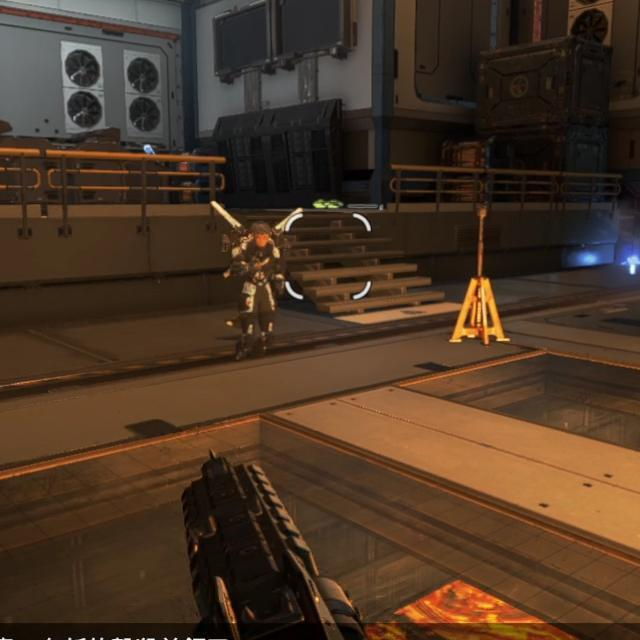avatar: (228, 220, 282, 364)
